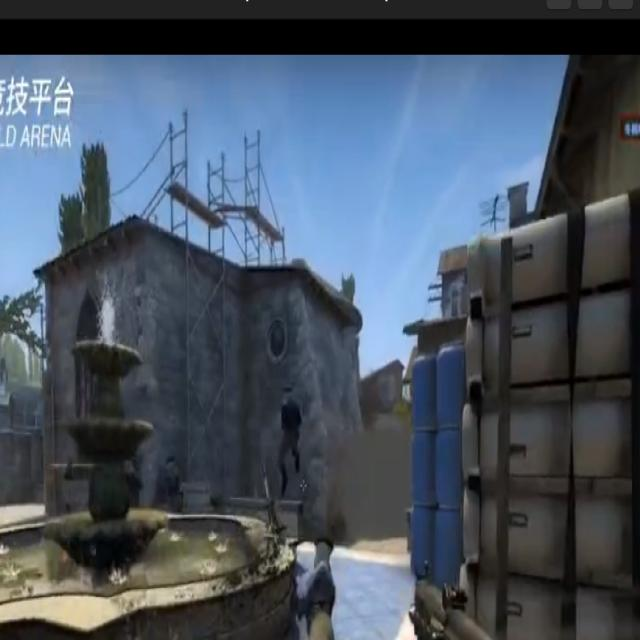person: (277, 386, 303, 496)
